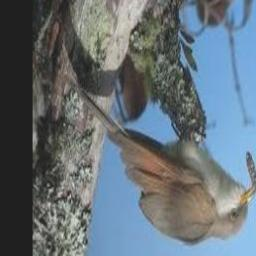Cuckoo: (77, 85, 256, 245)
